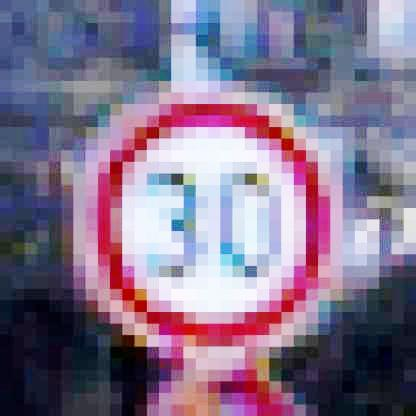Speed Limit -30-: (72, 86, 336, 354)
